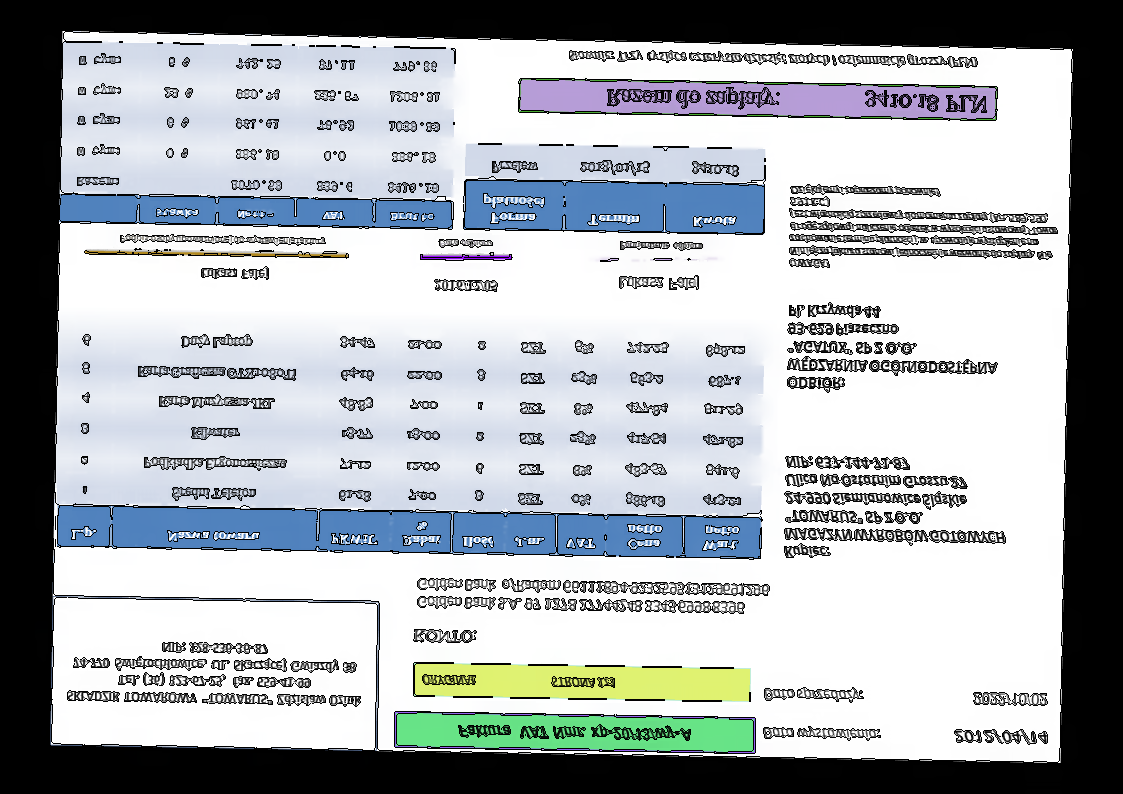Table: (55, 321, 766, 560), (60, 42, 456, 229), (462, 142, 768, 237)
TextBox: (782, 455, 1009, 564), (787, 184, 1061, 273), (65, 638, 365, 709), (786, 302, 998, 396), (415, 576, 773, 617), (605, 85, 989, 115), (567, 49, 981, 70), (454, 720, 693, 745), (117, 231, 327, 249), (419, 673, 617, 691), (762, 725, 883, 745), (763, 685, 867, 705), (951, 729, 1049, 748), (616, 272, 700, 292), (972, 690, 1050, 708), (431, 276, 498, 295), (199, 265, 271, 282), (413, 628, 478, 646), (619, 240, 703, 253), (437, 236, 494, 251)
